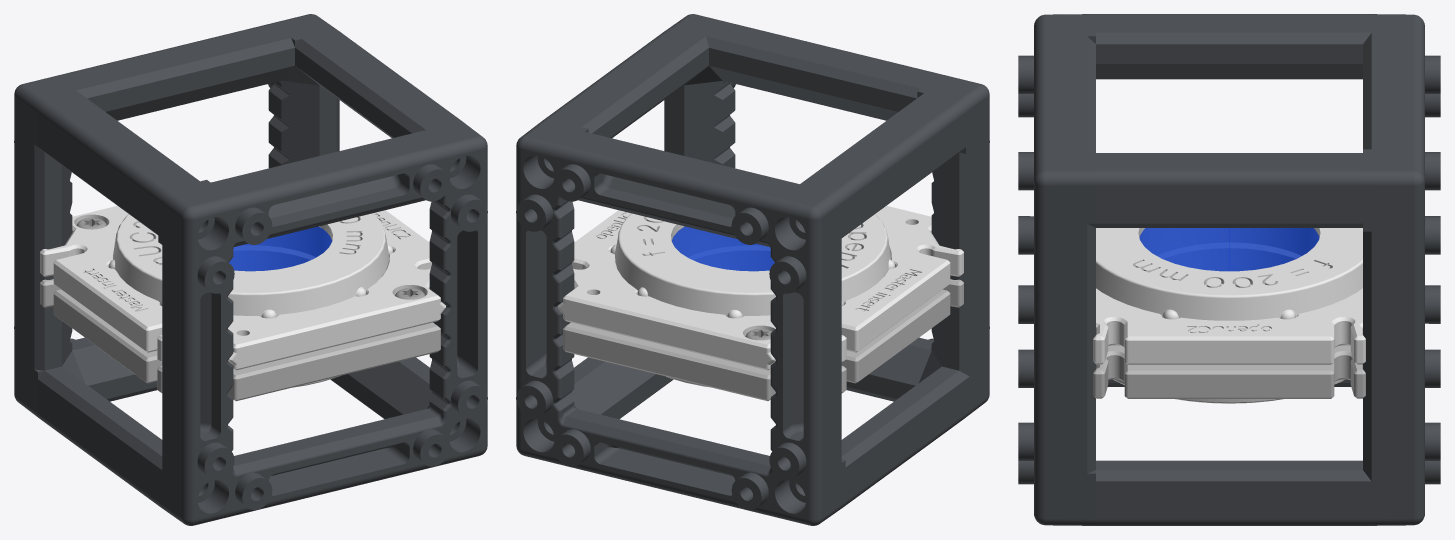
File: ASS_-_2066_-_CUBLEND25F200_-_V04.glb
The picture shows the model from 3 angles, left to right: view 1: azimuth 30°, elevation 25°; view 2: azimuth 150°, elevation 25°; view 3: azimuth 270°, elevation 25°; orthographic projection. The views are drawn at different scales.
Parts seen in each view (by area): view 1: PRT - 1003 - CUBHLF111 - V04:2, PRT - 1003 - CUBHLF111 - V04:1, PRT - 2123 - MASLCK - V04 - B:1, PRT - 2151 - INSLEND25F200:2, PRT - 2100 - MASINS - V04 - B:1, BUY - Lens - fXX D25 sC12.6 sE11.6 cx-cx:1, PRT - 2151 - INSLEND25F200:1; view 2: PRT - 1003 - CUBHLF111 - V04:1, PRT - 1003 - CUBHLF111 - V04:2, PRT - 2123 - MASLCK - V04 - B:1, PRT - 2151 - INSLEND25F200:2, PRT - 2100 - MASINS - V04 - B:1, BUY - Lens - fXX D25 sC12.6 sE11.6 cx-cx:1, PRT - 2151 - INSLEND25F200:1; view 3: PRT - 1003 - CUBHLF111 - V04:1, PRT - 1003 - CUBHLF111 - V04:2, PRT - 2151 - INSLEND25F200:2, PRT - 2123 - MASLCK - V04 - B:1, PRT - 2100 - MASINS - V04 - B:1, BUY - Lens - fXX D25 sC12.6 sE11.6 cx-cx:1, PRT - 2151 - INSLEND25F200:1.
Part boxes in pixels (x1=…): PRT - 1003 - CUBHLF111 - V04:2: x1=38, y1=31, x2=487, y2=525; PRT - 1003 - CUBHLF111 - V04:1: x1=14, y1=14, x2=455, y2=429; PRT - 2123 - MASLCK - V04 - B:1: x1=40, y1=206, x2=445, y2=370; PRT - 2151 - INSLEND25F200:2: x1=108, y1=213, x2=393, y2=318; PRT - 2100 - MASINS - V04 - B:1: x1=40, y1=279, x2=440, y2=401; BUY - Lens - fXX D25 sC12.6 sE11.6 cx-cx:1: x1=229, y1=226, x2=332, y2=271; PRT - 2151 - INSLEND25F200:1: x1=229, y1=245, x2=339, y2=387; PRT - 1003 - CUBHLF111 - V04:1: x1=516, y1=93, x2=965, y2=525; PRT - 1003 - CUBHLF111 - V04:2: x1=544, y1=14, x2=989, y2=506; PRT - 2123 - MASLCK - V04 - B:1: x1=558, y1=206, x2=963, y2=370; PRT - 2151 - INSLEND25F200:2: x1=610, y1=213, x2=895, y2=318; PRT - 2100 - MASINS - V04 - B:1: x1=563, y1=279, x2=963, y2=401; BUY - Lens - fXX D25 sC12.6 sE11.6 cx-cx:1: x1=671, y1=226, x2=774, y2=271; PRT - 2151 - INSLEND25F200:1: x1=666, y1=245, x2=774, y2=387; PRT - 1003 - CUBHLF111 - V04:1: x1=1096, y1=14, x2=1440, y2=525; PRT - 1003 - CUBHLF111 - V04:2: x1=1018, y1=14, x2=1362, y2=525; PRT - 2151 - INSLEND25F200:2: x1=1096, y1=228, x2=1362, y2=320; PRT - 2123 - MASLCK - V04 - B:1: x1=1093, y1=288, x2=1365, y2=364; PRT - 2100 - MASINS - V04 - B:1: x1=1093, y1=345, x2=1365, y2=398; BUY - Lens - fXX D25 sC12.6 sE11.6 cx-cx:1: x1=1139, y1=228, x2=1319, y2=271; PRT - 2151 - INSLEND25F200:1: x1=1113, y1=242, x2=1345, y2=403.
Bounding box in the file's own units: 49.8 × 49.8 × 53.8.
